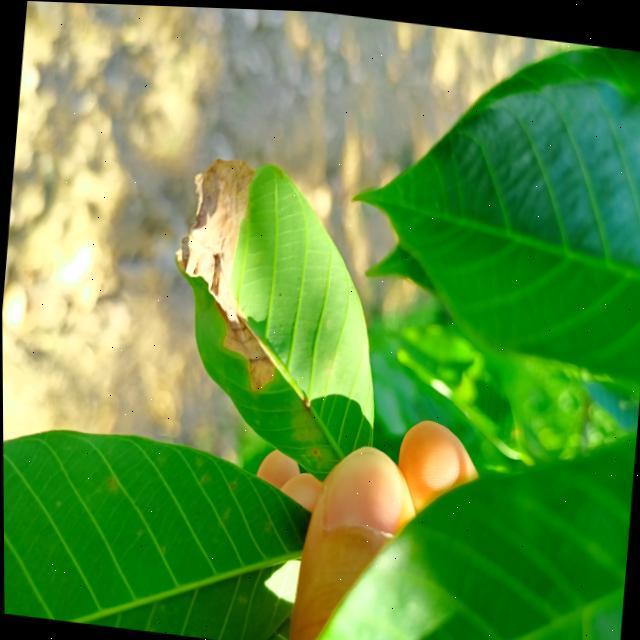Leaf-Blight: (162, 149, 294, 392)
